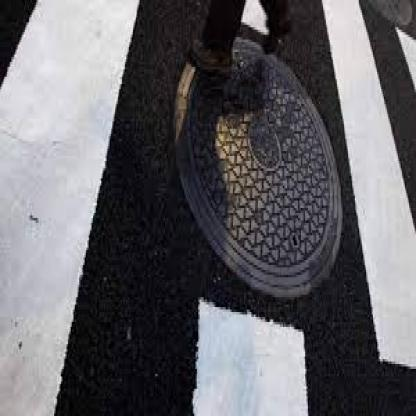closed manhole-not overflowing-: (172, 25, 344, 296)
